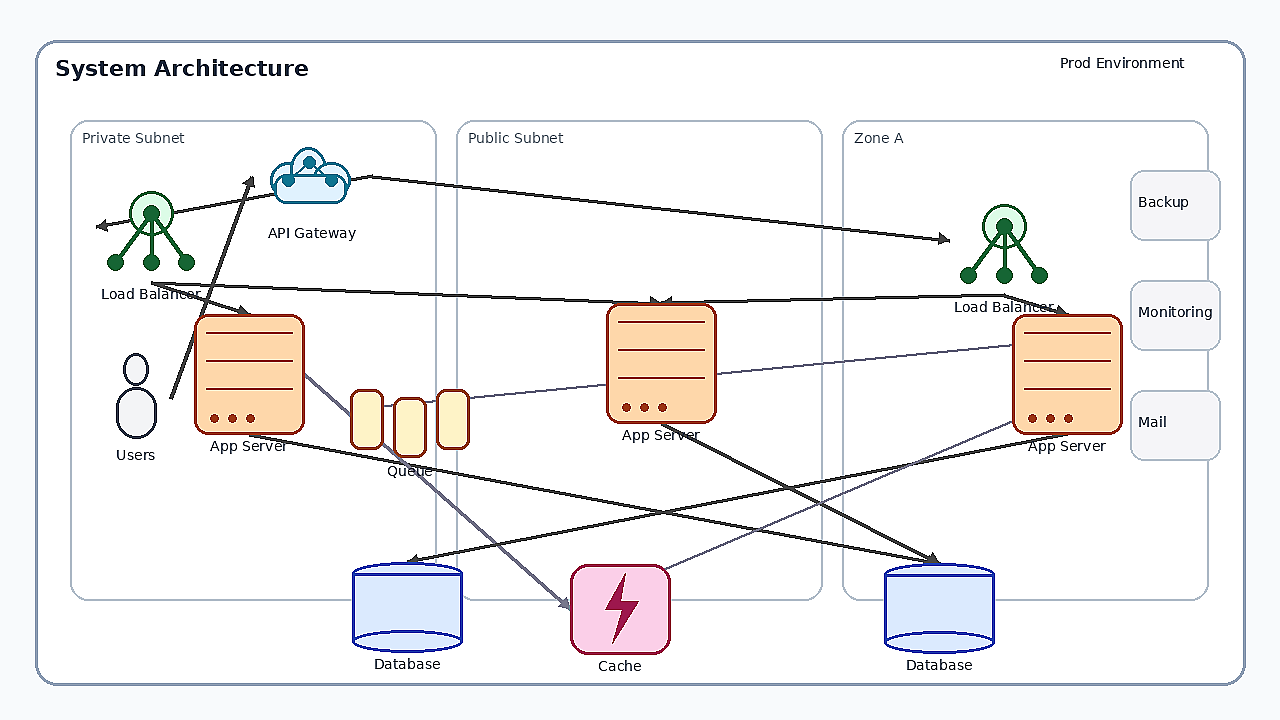API Gateway: (252, 131, 372, 221)
Application Server: (606, 303, 716, 423), (194, 314, 304, 434), (1012, 314, 1122, 434)
Cache: (570, 564, 670, 654)
Database: (352, 562, 462, 652), (884, 563, 994, 653)
Load Balancer: (949, 185, 1059, 295), (96, 172, 206, 282)
Message Queue: (350, 389, 470, 459)
User: (101, 353, 171, 443)
